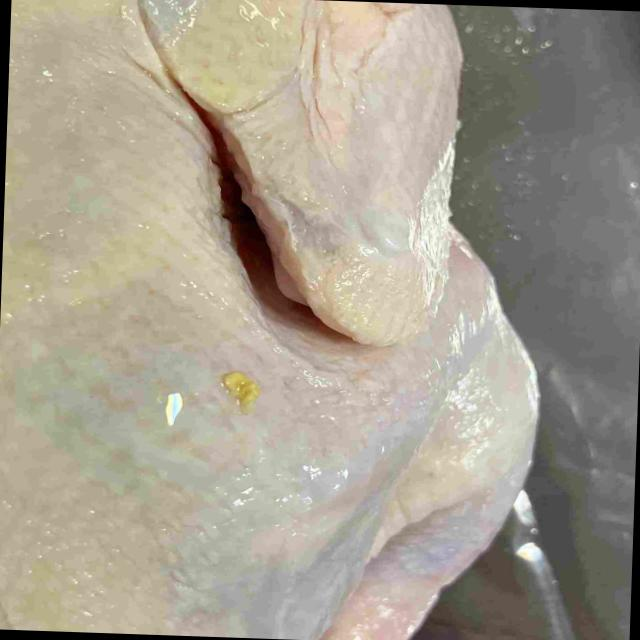leg: (302, 317, 544, 640)
wing: (151, 0, 471, 352)
